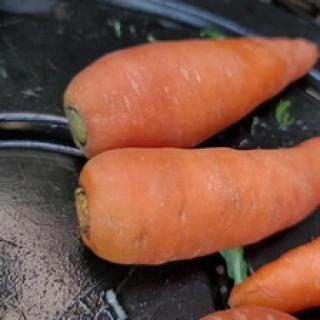carrot: (73, 131, 320, 267), (68, 36, 318, 148)
